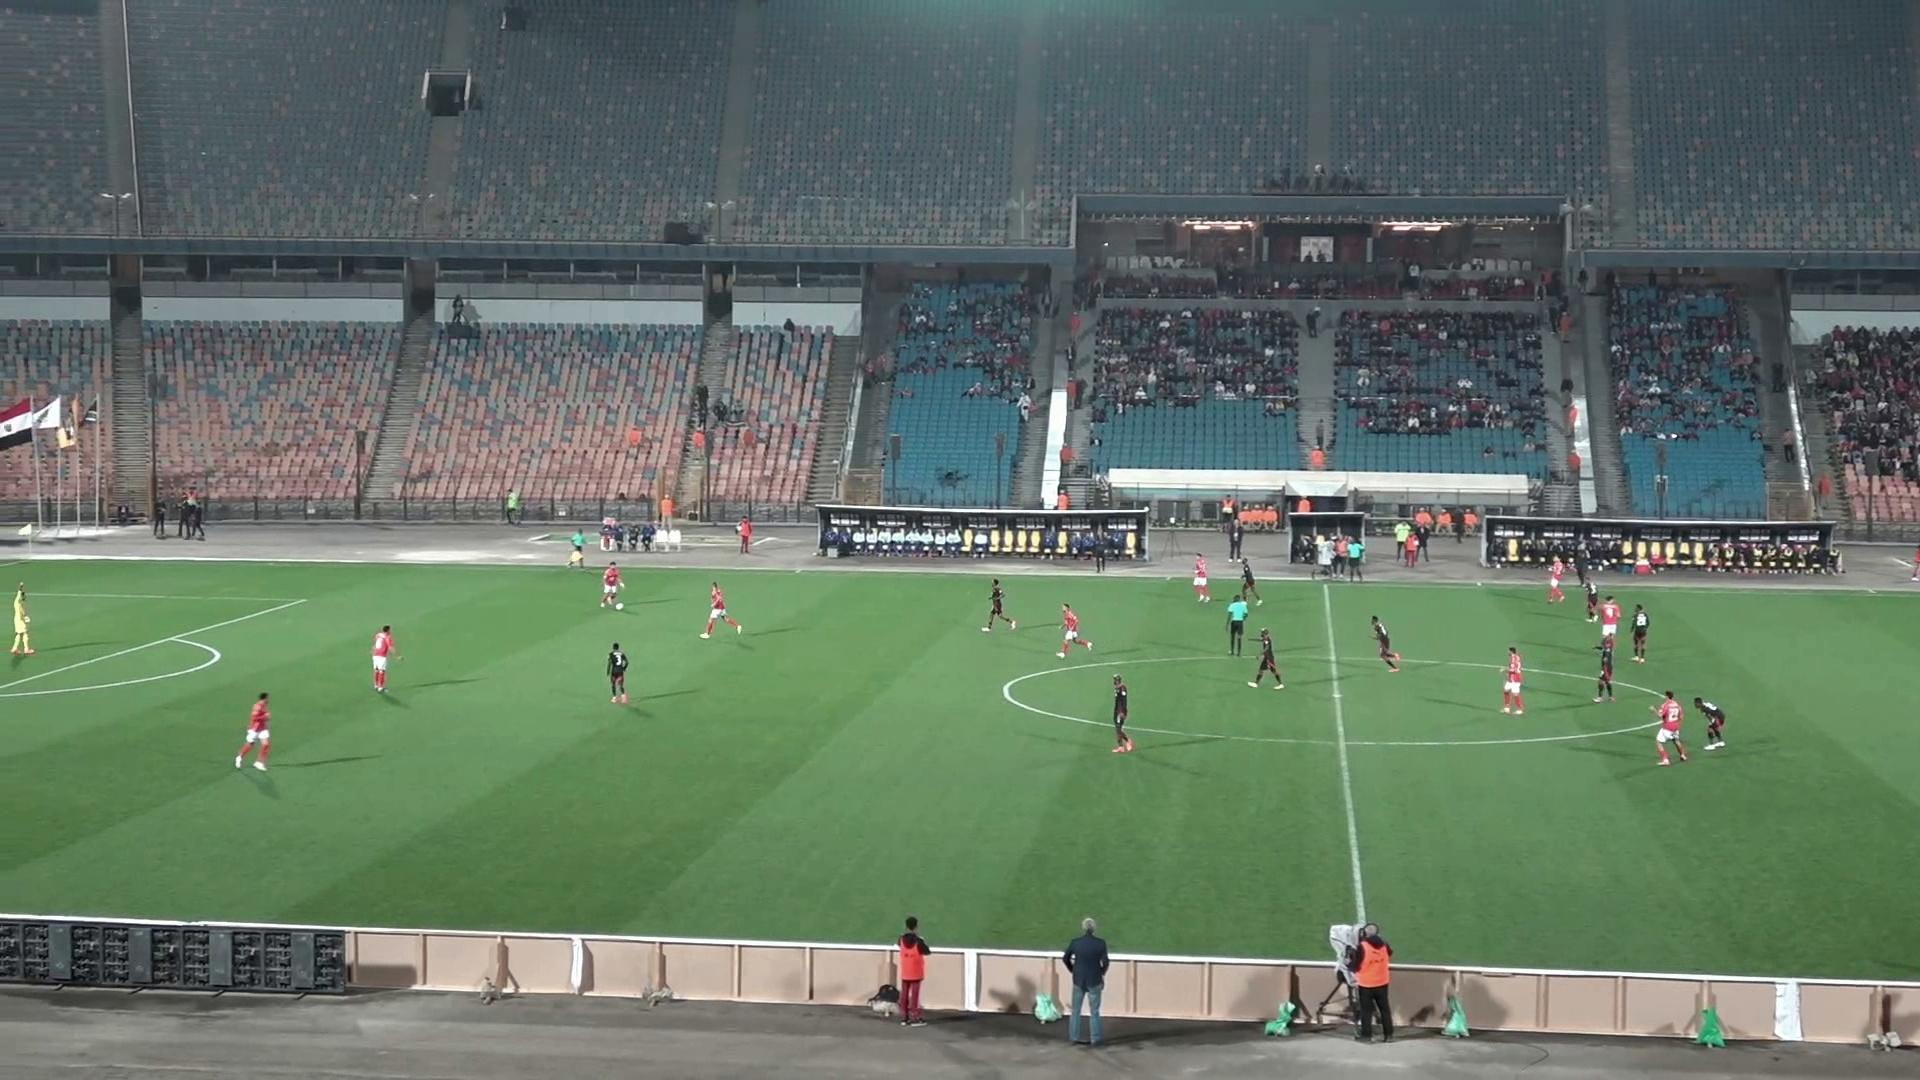Ball: (613, 603, 625, 609)
GK1: (9, 584, 33, 657)
Refree: (1226, 588, 1251, 655), (1346, 535, 1365, 580)
Team1: (235, 692, 270, 769), (1655, 690, 1687, 765), (702, 582, 741, 638), (1058, 605, 1091, 655), (372, 625, 396, 694), (1501, 646, 1524, 713), (1600, 597, 1622, 650), (600, 562, 624, 609), (1545, 556, 1567, 603), (1193, 555, 1211, 603)
Team2: (1247, 628, 1282, 687), (981, 578, 1015, 632), (1370, 615, 1400, 671), (1112, 675, 1134, 752), (1693, 698, 1724, 749), (1594, 636, 1615, 702), (607, 644, 629, 703), (1578, 567, 1600, 621), (1631, 603, 1650, 663), (1238, 558, 1261, 607)
